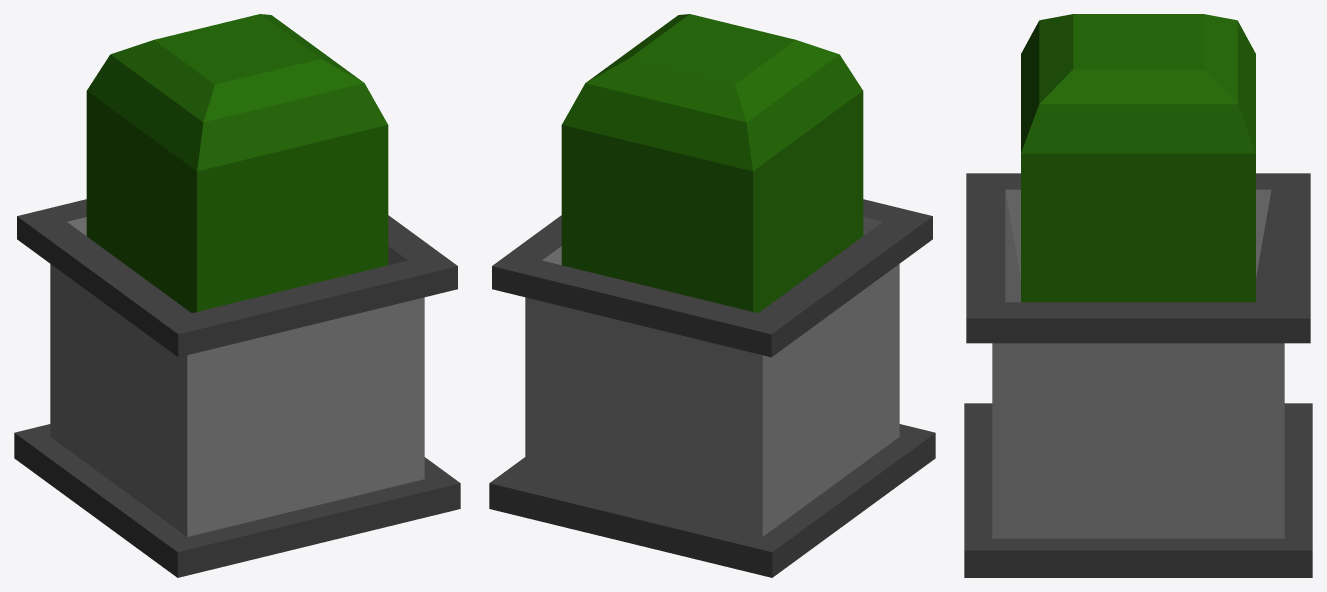
Rendered from bush_02_Basic.fbx.
3 views of the same model, side by side, from view 1: azimuth 30°, elevation 25°; view 2: azimuth 150°, elevation 25°; view 3: azimuth 270°, elevation 25° (orthographic). The views are drawn at different scales.
Parts seen in each view (by area): view 1: bush_02_Basic; view 2: bush_02_Basic; view 3: bush_02_Basic.
Part boxes in pixels (x1,y1,x2,y2): bush_02_Basic: (14, 14, 460, 577); bush_02_Basic: (489, 14, 935, 577); bush_02_Basic: (964, 14, 1312, 577).
Size of the model in its own units: 100 by 147 by 100.
Materials: 1 (1 with a texture image).
